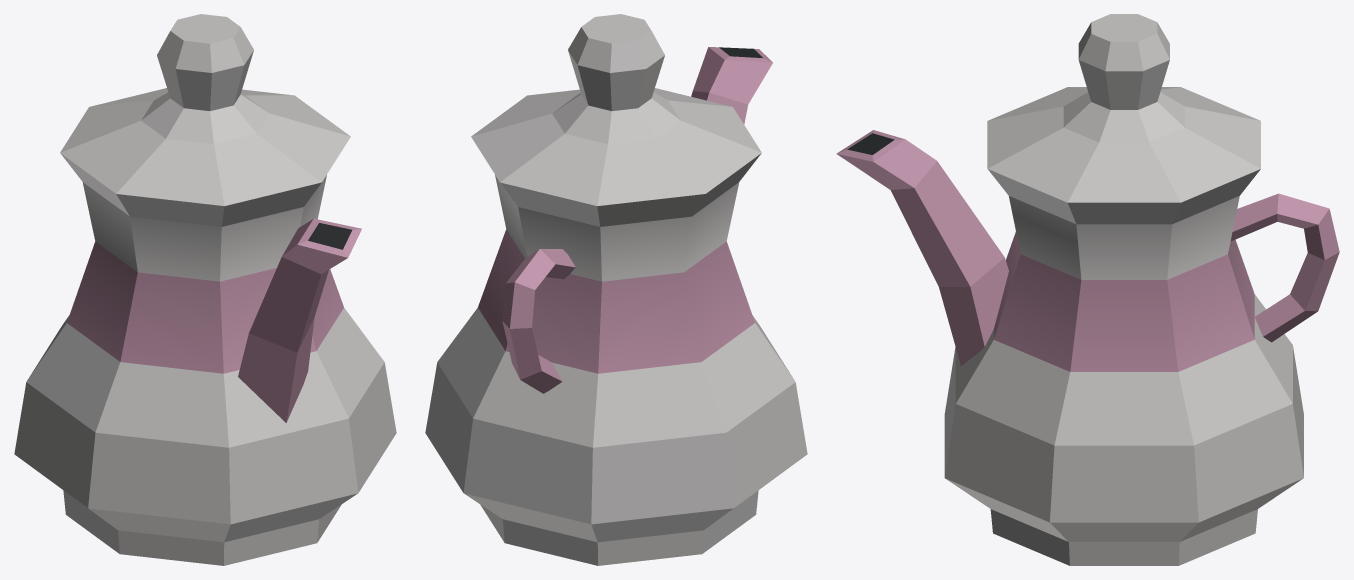
The model's file is SM_Prop_TeaPot_01.glb.
The picture shows the model from 3 angles, left to right: view 1: azimuth 30°, elevation 25°; view 2: azimuth 150°, elevation 25°; view 3: azimuth 270°, elevation 25°; orthographic projection.
Visible parts, largest first — view 1: SM_Prop_TeaPot_01; view 2: SM_Prop_TeaPot_01; view 3: SM_Prop_TeaPot_01.
Part boxes in pixels (x1,y1,x2,y2): SM_Prop_TeaPot_01: [14, 14, 396, 565]; SM_Prop_TeaPot_01: [425, 14, 807, 565]; SM_Prop_TeaPot_01: [836, 14, 1339, 565].
Bounding box in the file's own units: 0.3125 × 0.4627 × 0.4376.
Materials: 1 (1 with a texture image).
